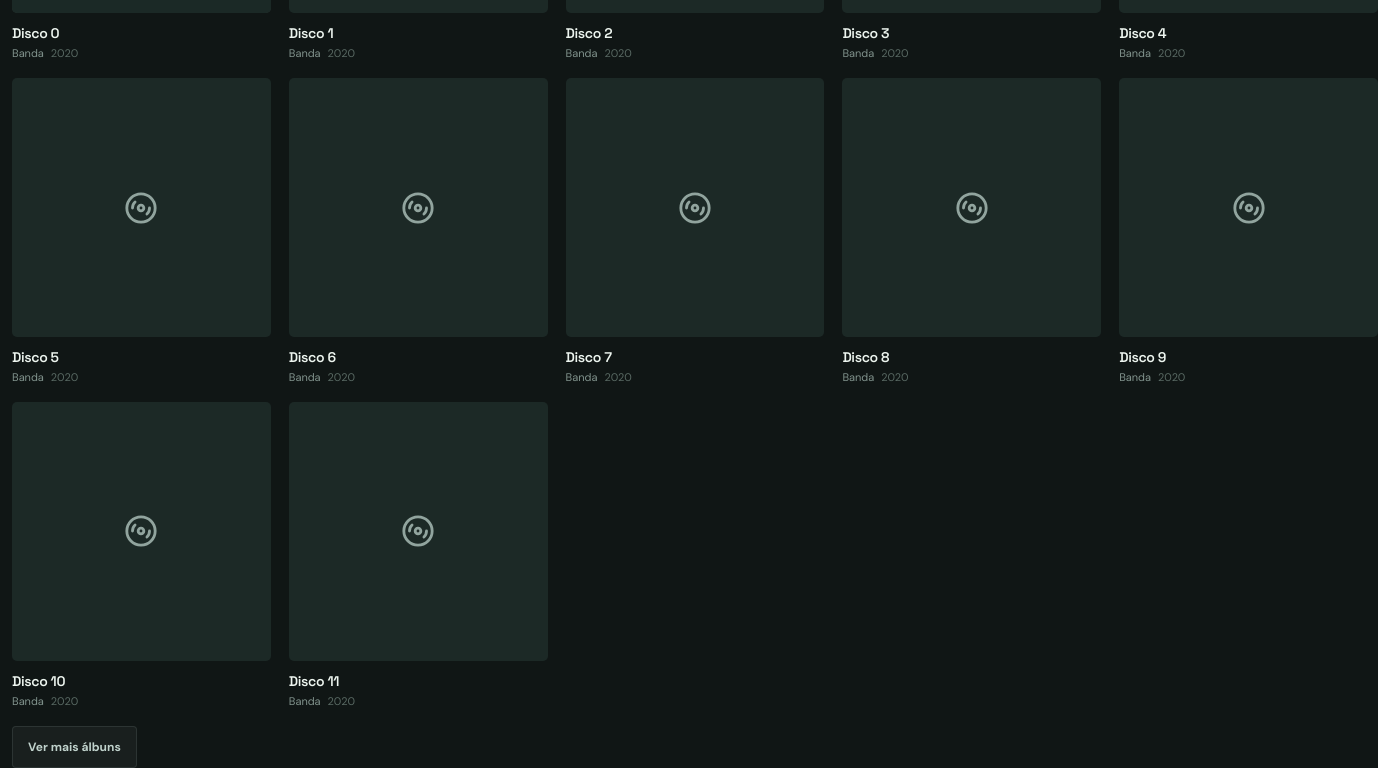
Test case: SearchPage album pagination › loads the next page with an offset and hides the button at the end
(page scrolled)
Click the button "Ver mais álbuns".
click(74, 747)  # box [12, 726, 137, 767]
(page scrolled)
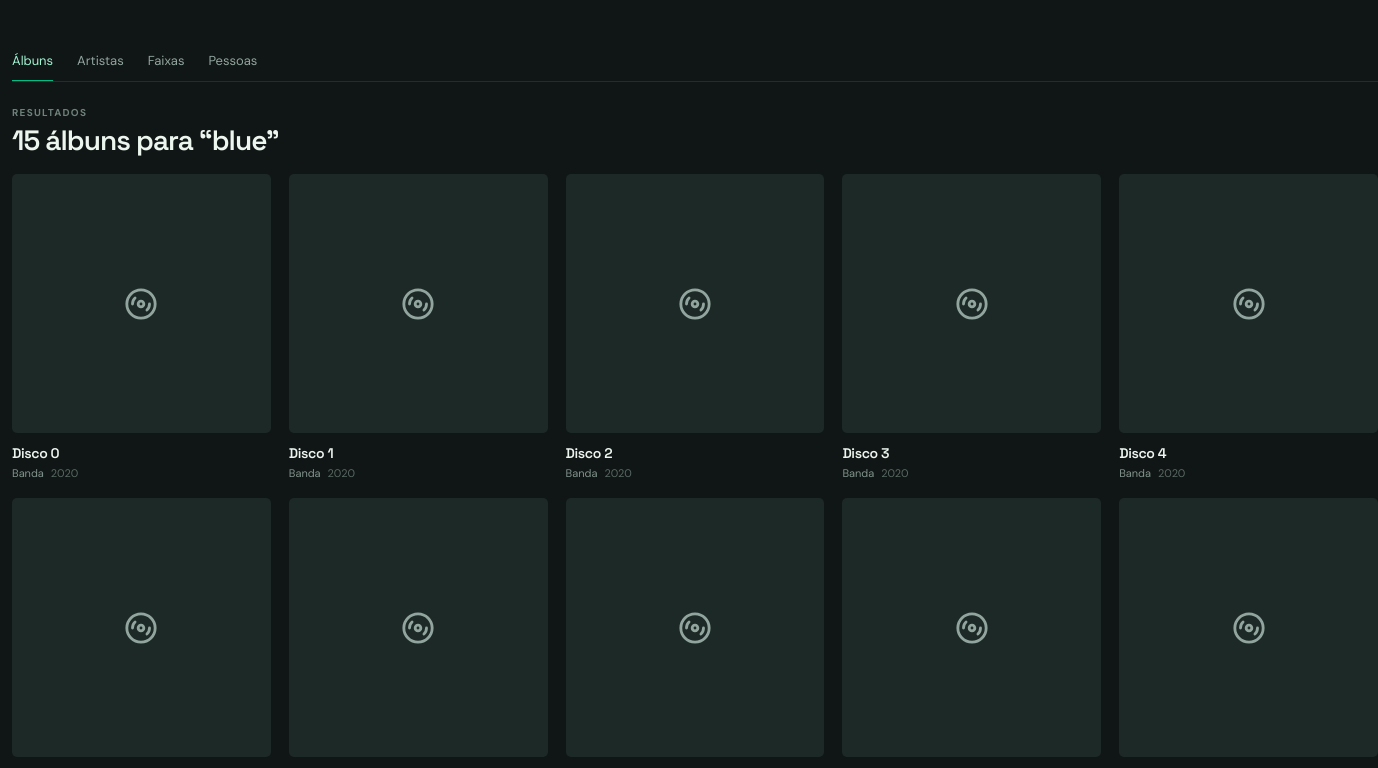
Expected: the button "Ver mais álbuns" is gone
